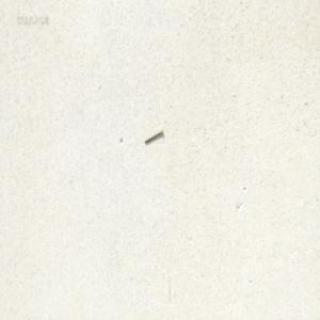Bolttrack_idkeyframe: (142, 126, 162, 142)
